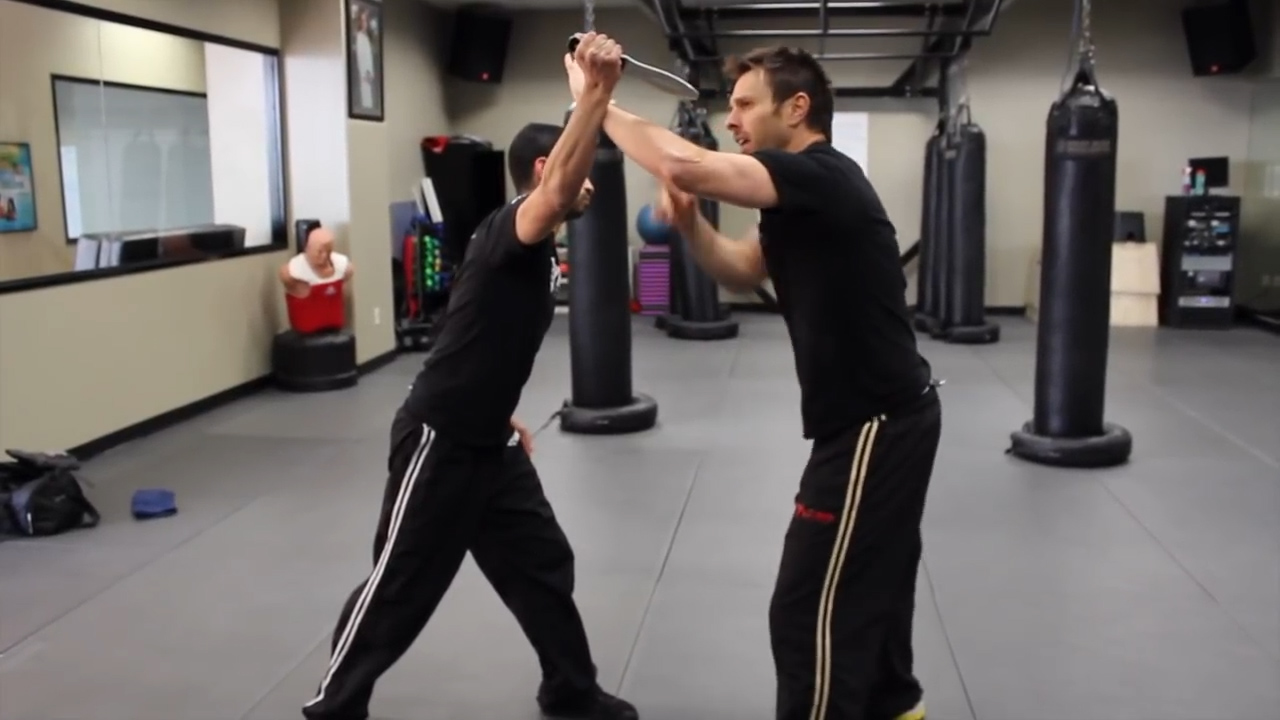knife: (559, 27, 707, 107)
